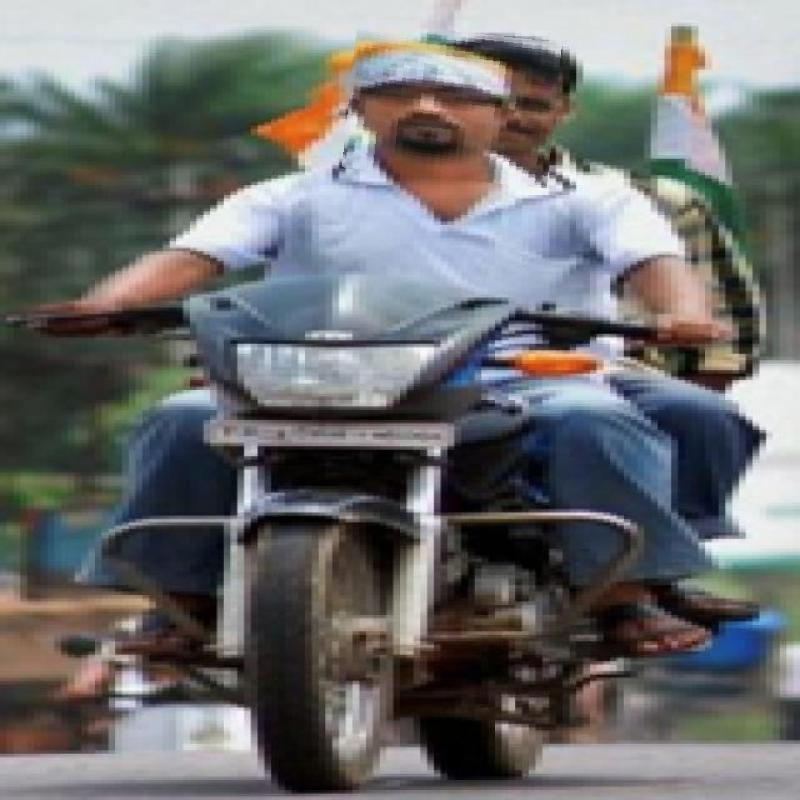nohelmet: (345, 26, 558, 183)
